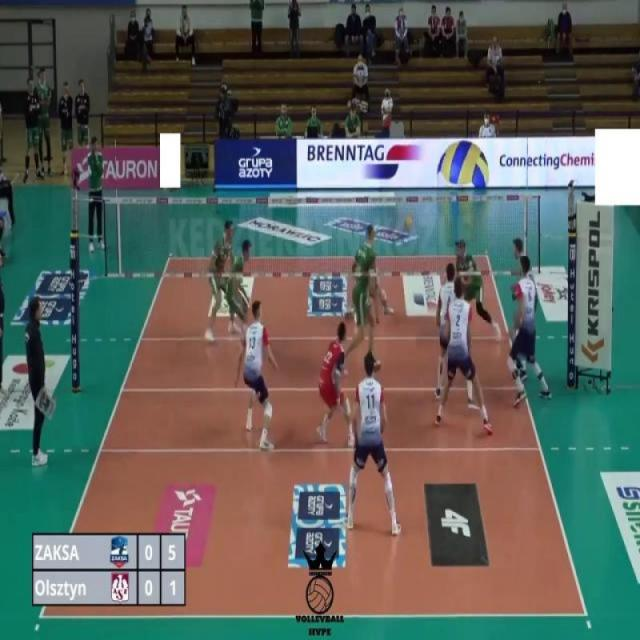volleyball: (435, 139, 490, 187), (404, 212, 414, 231)
